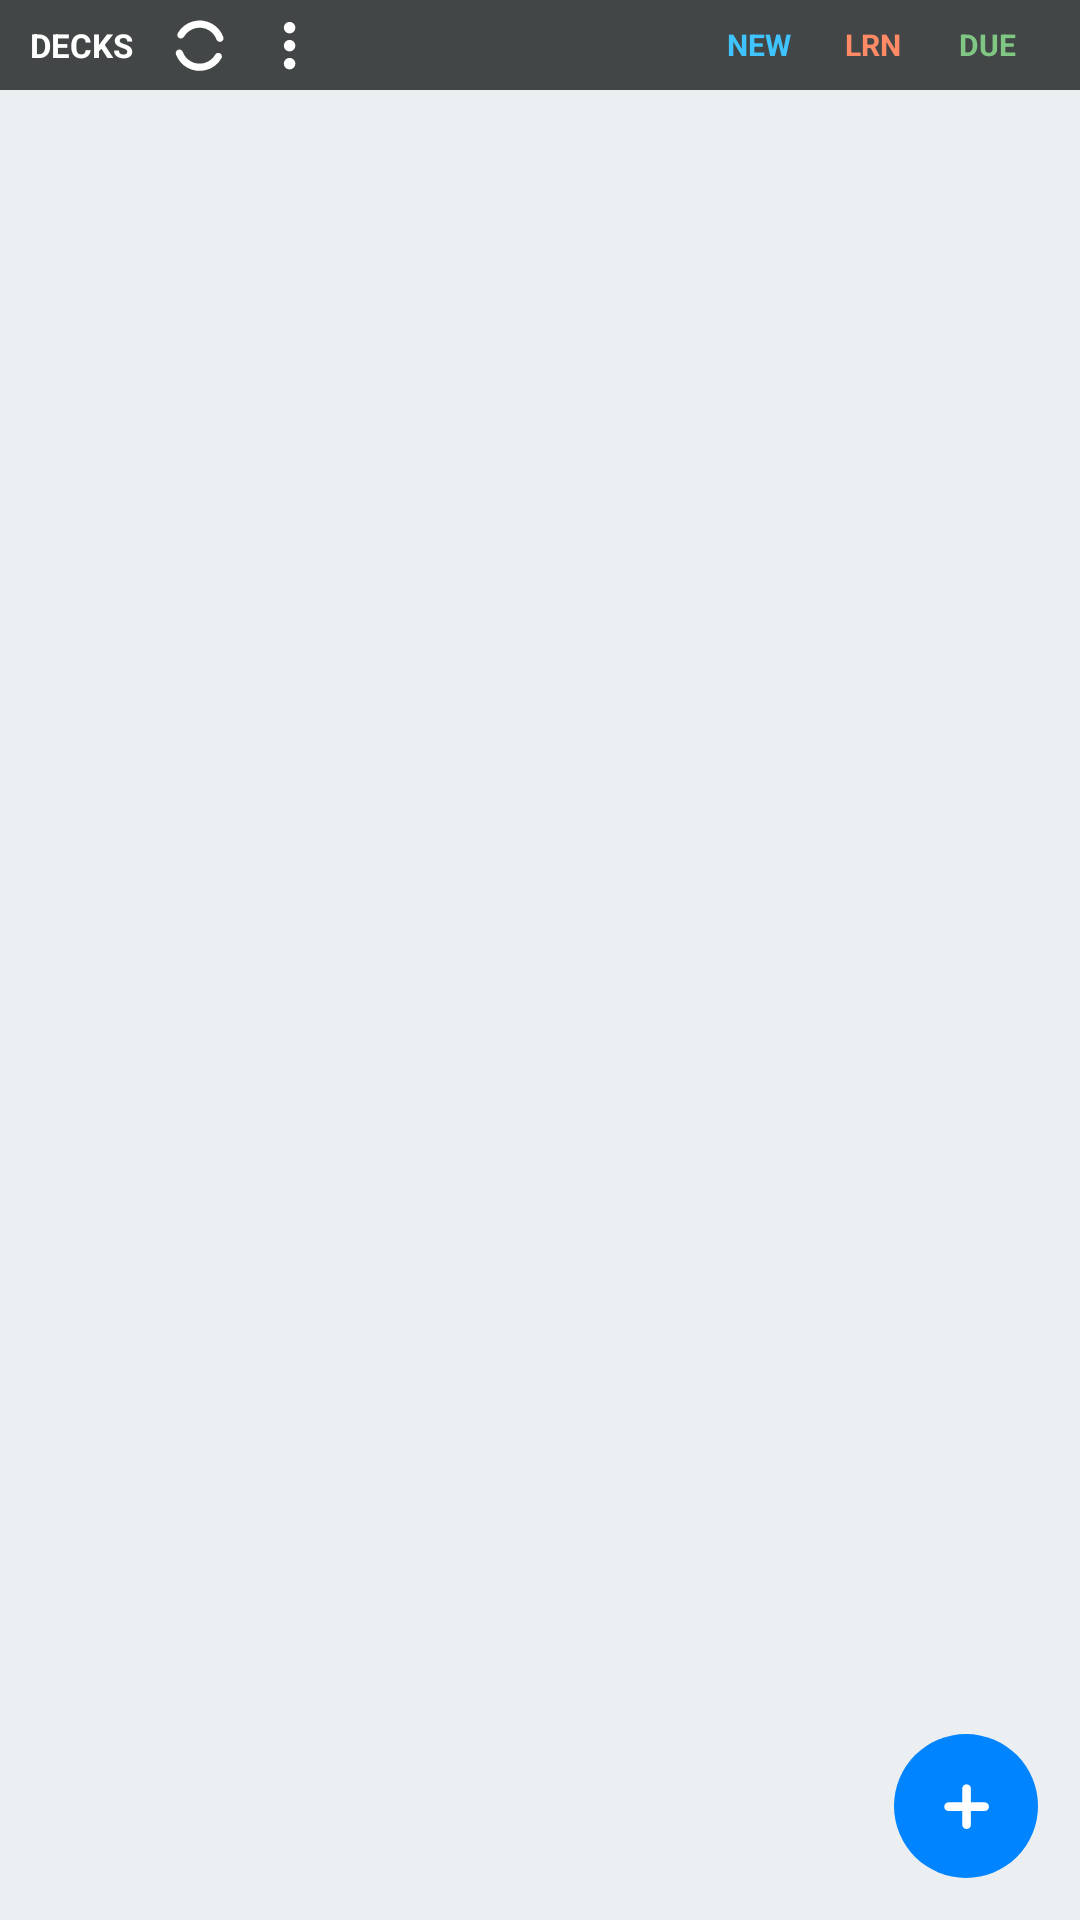

Icon click points for this 1080*1920 phone screenshot, format (x=x, y=y):
Add Note / Deck: (x=966, y=1806)
Menu: (x=289, y=46)
Sync: (x=199, y=45)
